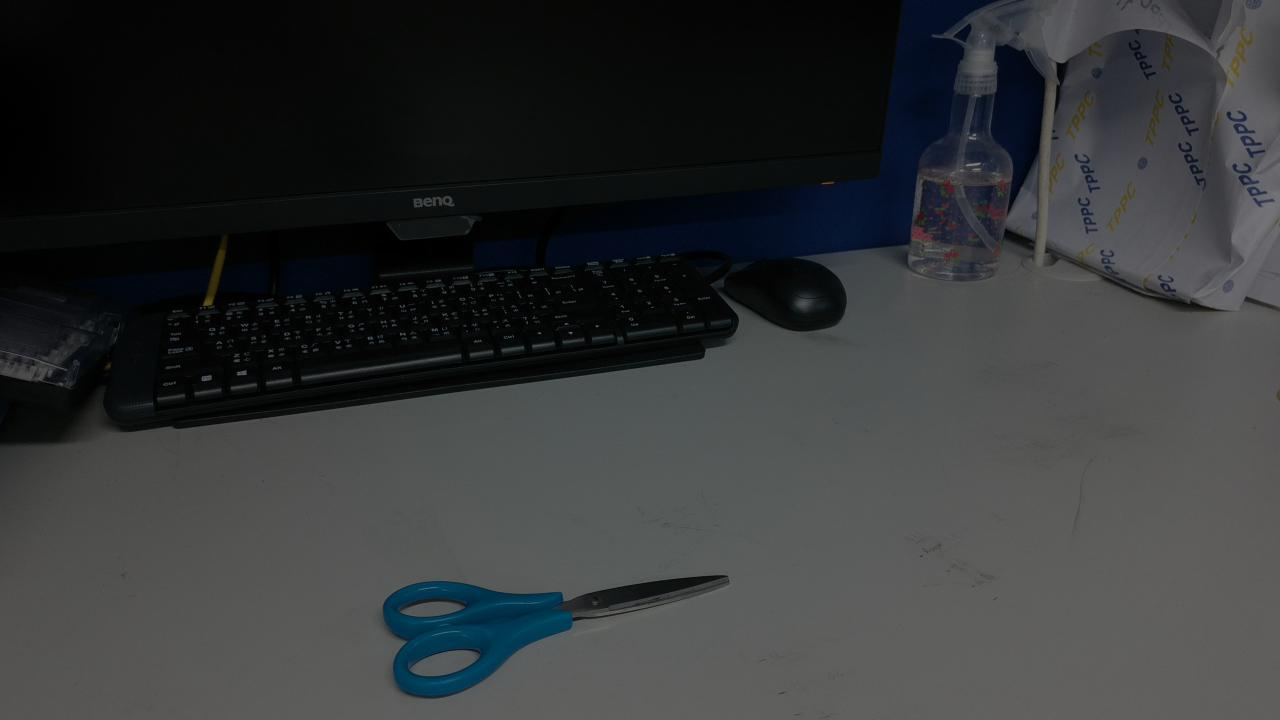long: (561, 555, 905, 625)
